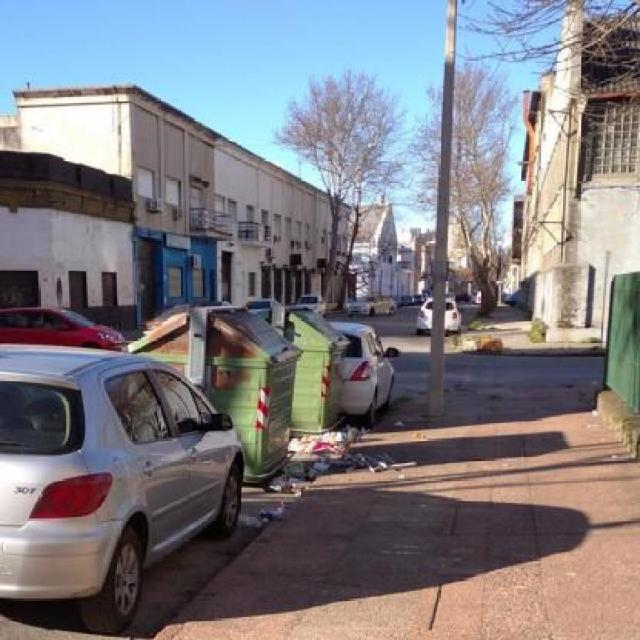garbage: (277, 414, 456, 500), (455, 323, 510, 362)
